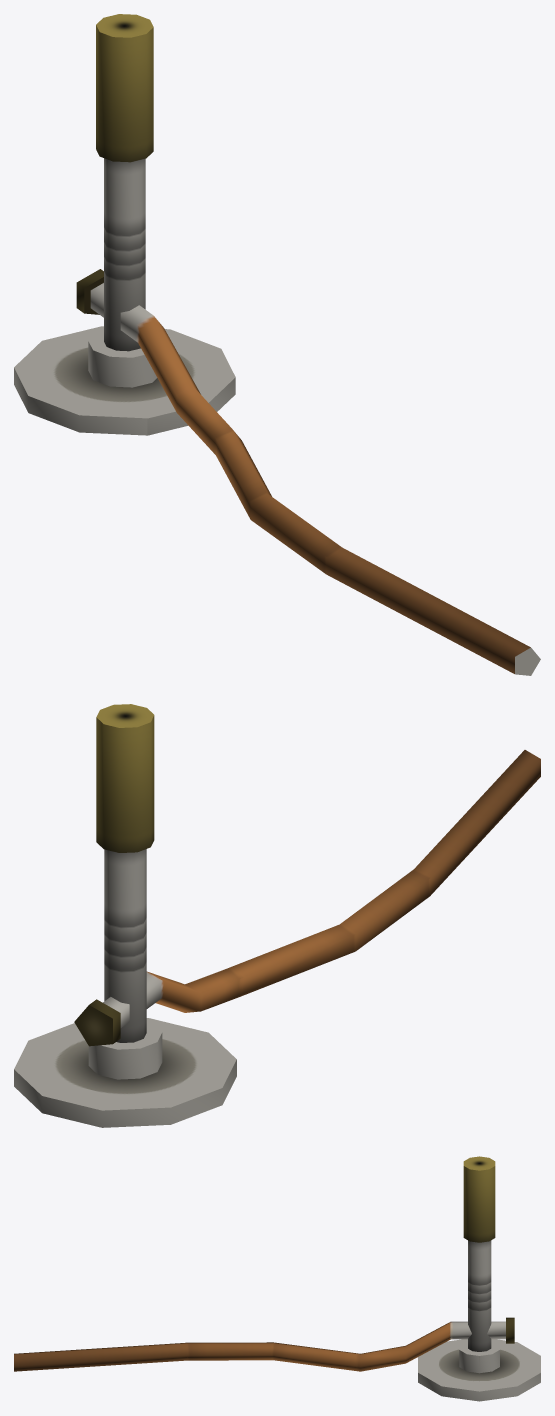
The model's file is LabDesk_Object_BunsenBurner.fbx.
The picture shows the model from 3 angles, top to bottom: view 1: azimuth 30°, elevation 25°; view 2: azimuth 150°, elevation 25°; view 3: azimuth 270°, elevation 25°; orthographic projection. The views are drawn at different scales.
Parts seen in each view (by area): view 1: LabDesk_Object_BunsenBurner; view 2: LabDesk_Object_BunsenBurner; view 3: LabDesk_Object_BunsenBurner.
Boxes of the visible parts, x1=… form: LabDesk_Object_BunsenBurner: x1=14, y1=14, x2=540, y2=675; LabDesk_Object_BunsenBurner: x1=14, y1=704, x2=540, y2=1127; LabDesk_Object_BunsenBurner: x1=14, y1=1156, x2=540, y2=1401.
Size of the model in its own units: 3.13 by 5.64 by 12.78.
Materials: 1 (1 with a texture image).
